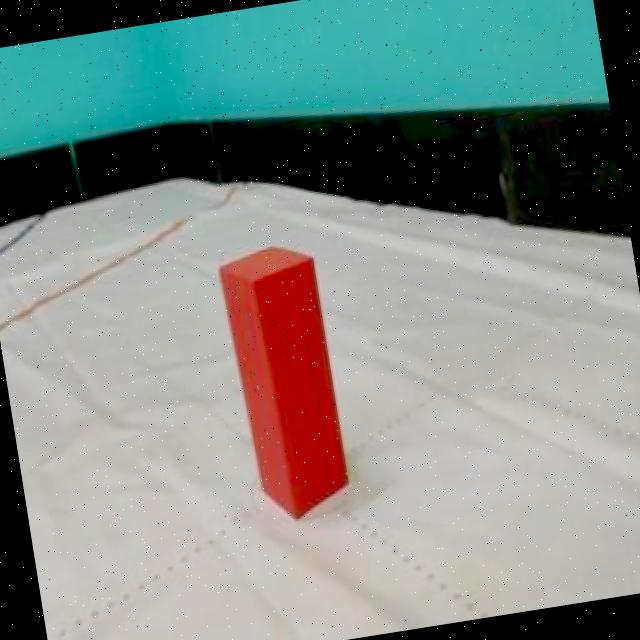redbox: (218, 237, 356, 524)
